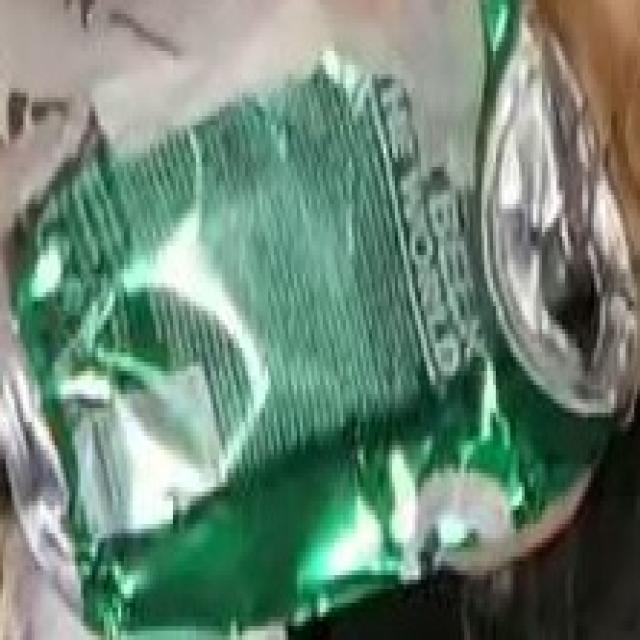litter: (0, 4, 640, 620)
